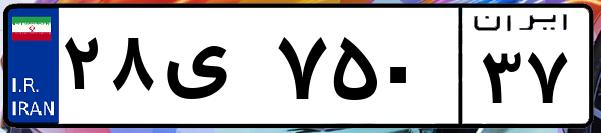0: (385, 28, 445, 110)
2: (57, 26, 110, 100)
3: (475, 38, 525, 113)
5: (330, 28, 385, 110)
7: (270, 28, 330, 110), (525, 38, 570, 115)
8: (110, 28, 158, 98)
ی: (158, 20, 270, 120)
